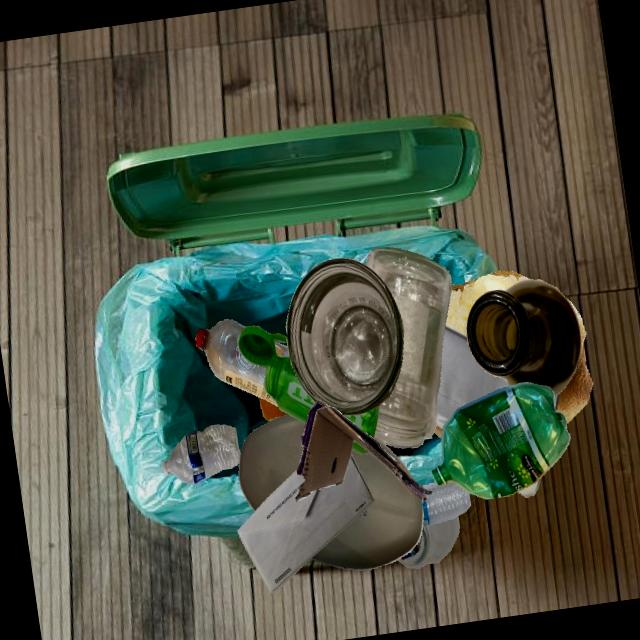biowaste: (442, 333, 564, 436), (445, 271, 531, 337), (564, 298, 593, 403), (259, 397, 289, 420)
cardboard: (295, 401, 435, 501)
glass: (286, 258, 404, 416), (366, 247, 451, 448), (466, 279, 582, 396), (397, 516, 460, 568)
paper: (238, 453, 374, 593), (436, 325, 499, 428), (499, 380, 558, 485)
plastic: (431, 382, 570, 499), (238, 325, 315, 424), (196, 319, 278, 406), (162, 424, 241, 485), (421, 481, 471, 528), (399, 534, 422, 560)
